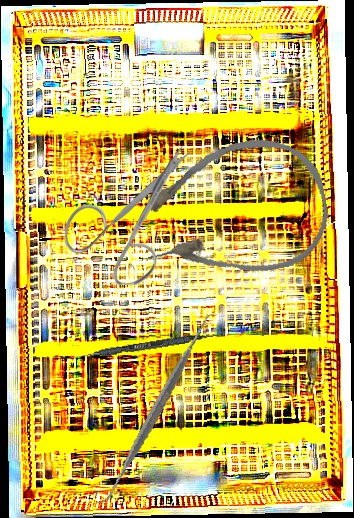Cannula: (130, 128, 337, 293)
Iris Scissors: (65, 145, 190, 285)
Spatula Surgical: (65, 313, 248, 505), (60, 327, 224, 366)
